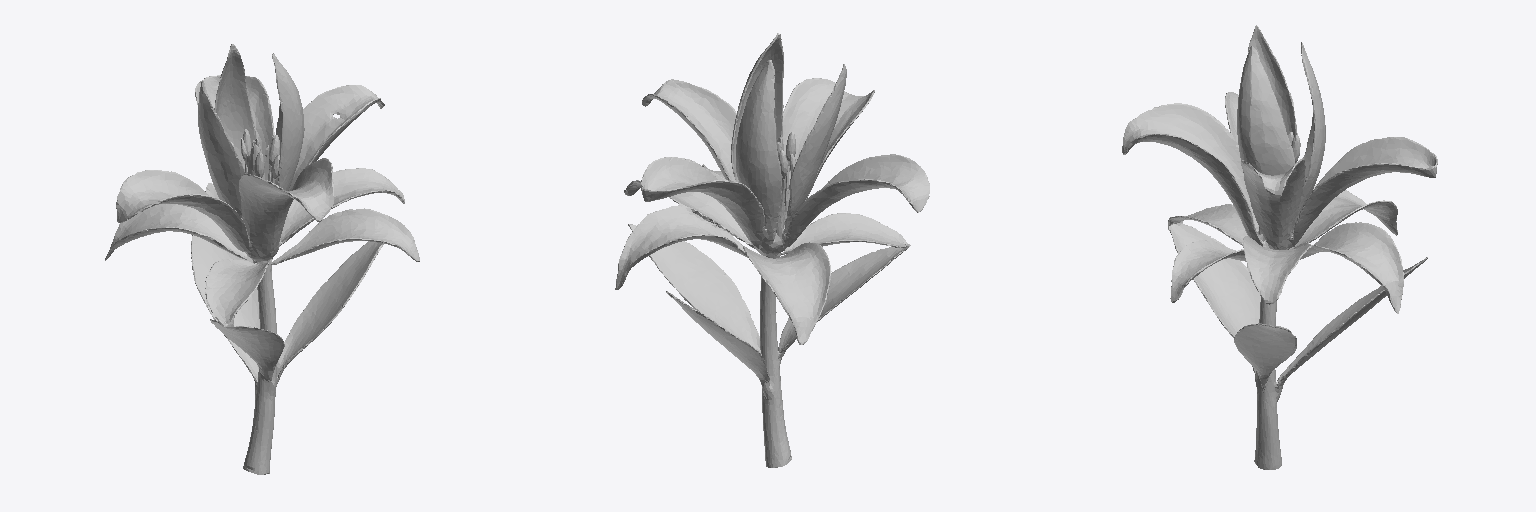
Rendered from Lily.obj.
The picture shows the model from 3 angles: view 1: azimuth 30°, elevation 25°; view 2: azimuth 150°, elevation 25°; view 3: azimuth 270°, elevation 25°; orthographic projection.
Parts seen in each view (by area): view 1: Mesh1; view 2: Mesh1; view 3: Mesh1.
Part boxes in pixels (left/top/right/bottom): Mesh1: left=105, top=44, right=419, bottom=474; Mesh1: left=615, top=33, right=929, bottom=467; Mesh1: left=1122, top=25, right=1437, bottom=469.
Size of the model in its own units: 1.44 by 2 by 1.35.